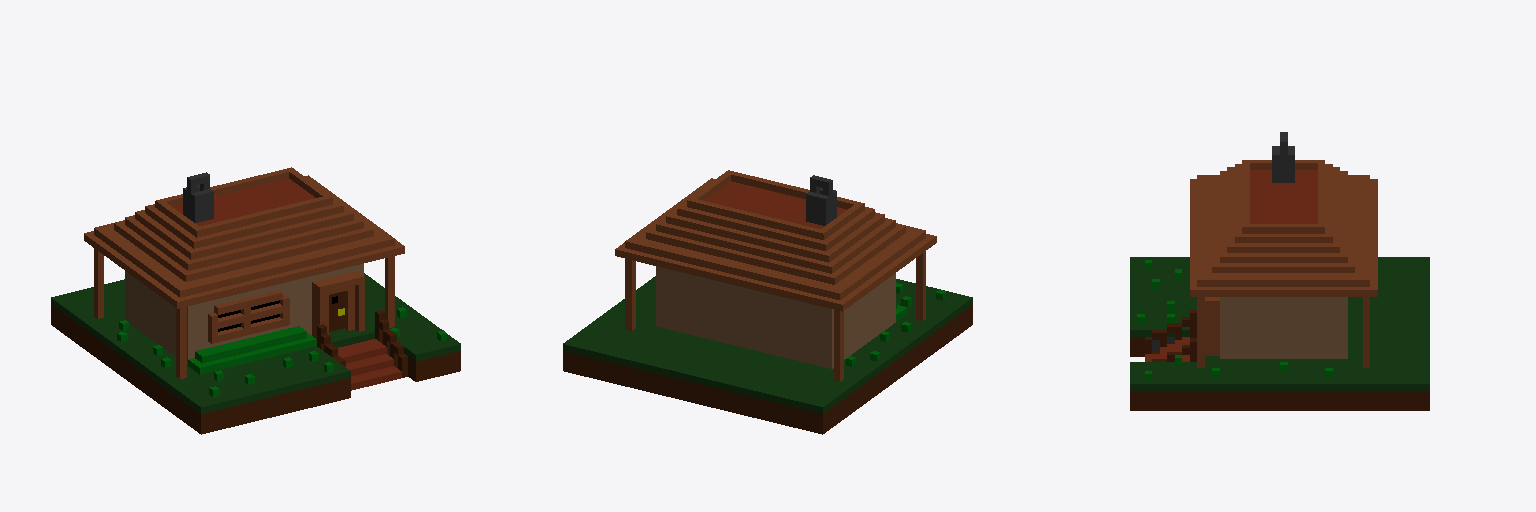
The picture shows the model from 3 angles: view 1: azimuth 30°, elevation 25°; view 2: azimuth 150°, elevation 25°; view 3: azimuth 270°, elevation 25°; orthographic projection.
Visible parts, largest first — view 1: Home_End; view 2: Home_End; view 3: Home_End.
Boxes of the visible parts, <box> form: Home_End: <box>51,167,460,434</box>; Home_End: <box>563,170,972,434</box>; Home_End: <box>1130,132,1429,410</box>.
Bounding box in the file's own units: 40 × 27 × 40.
1 materials, 1 textured.